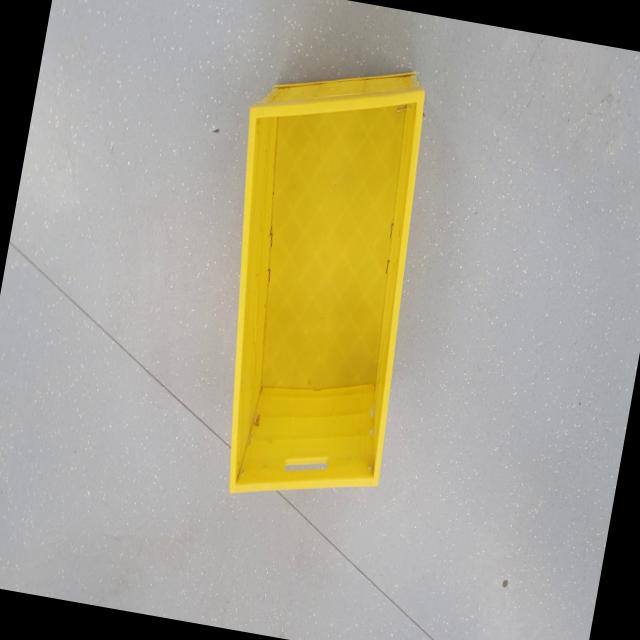box: (176, 39, 462, 532)
